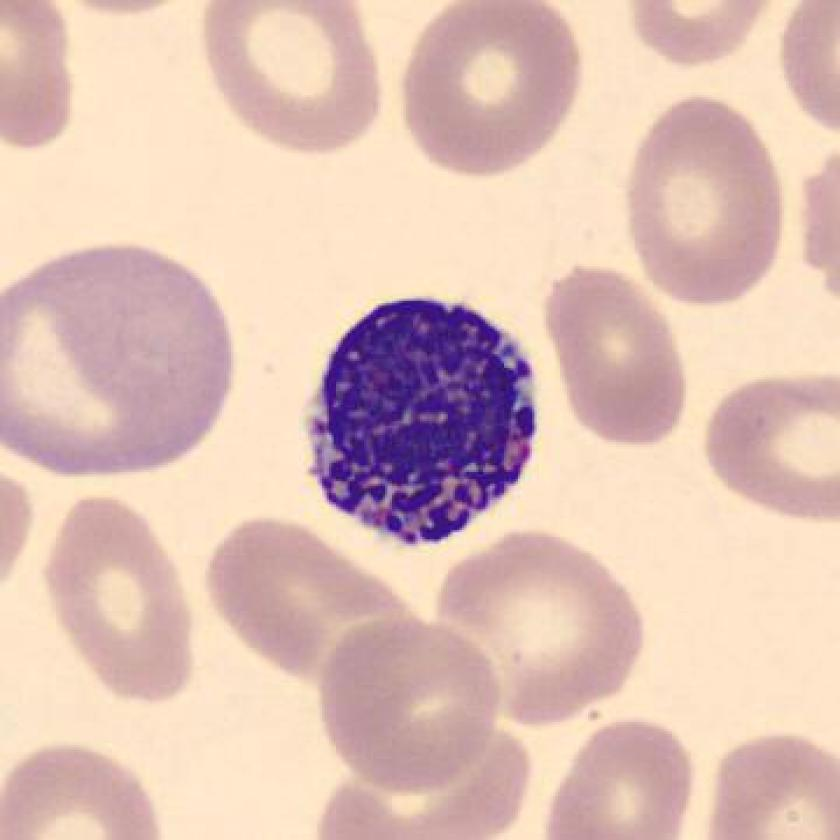basophil: (300, 281, 549, 559)
